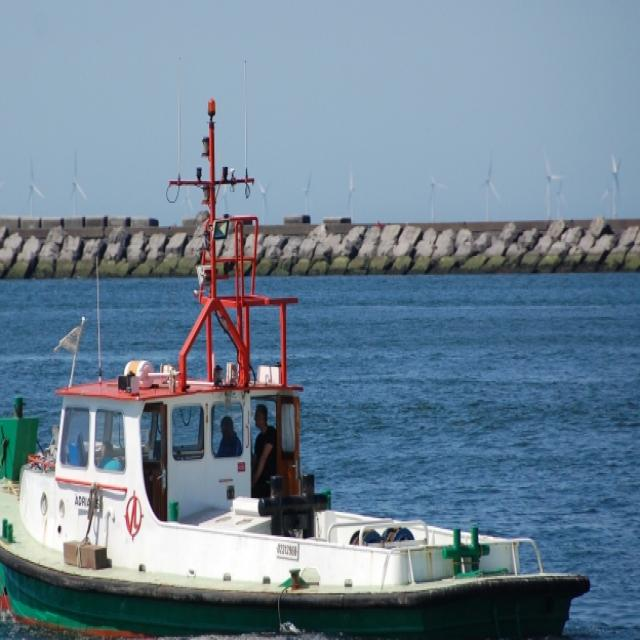tugboat: (1, 51, 598, 640)
